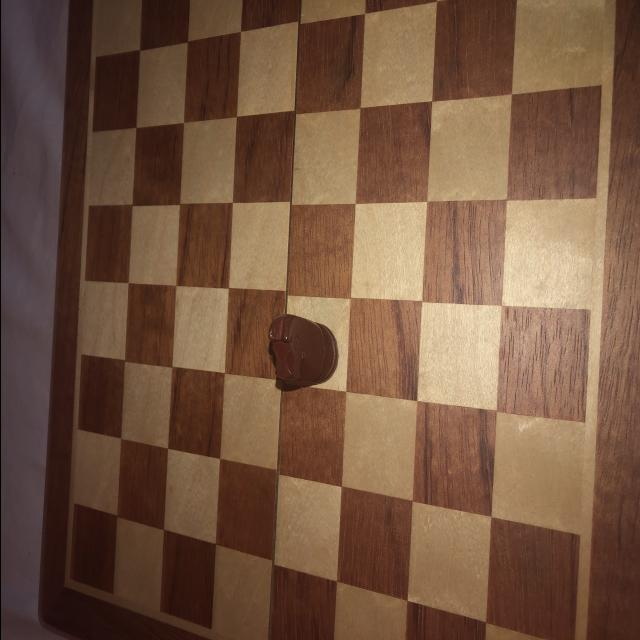black_knight: (265, 314, 339, 392)
